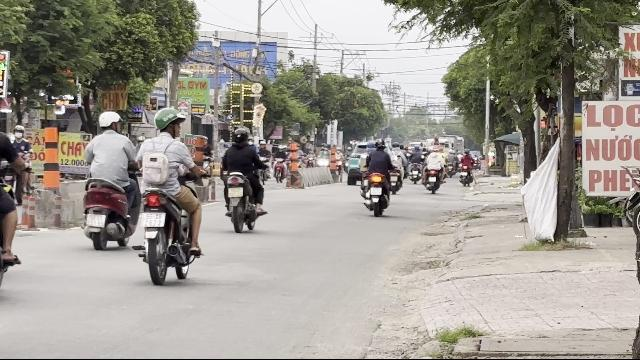helmet: (152, 106, 184, 137), (97, 110, 121, 132), (232, 127, 250, 145)
licenseplate: (141, 213, 165, 227), (87, 215, 105, 227), (228, 188, 244, 196)
motorcyclist: (134, 100, 206, 282), (79, 110, 141, 250), (219, 126, 267, 231)
